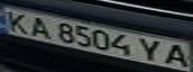0: (90, 28, 112, 52)
4: (112, 30, 136, 56)
5: (72, 24, 93, 48)
8: (51, 20, 75, 45)
A: (160, 42, 193, 69), (24, 15, 54, 39)
K: (0, 9, 33, 34)
Y: (136, 36, 169, 63)
